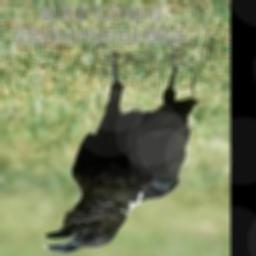Crow: (36, 46, 203, 256)
